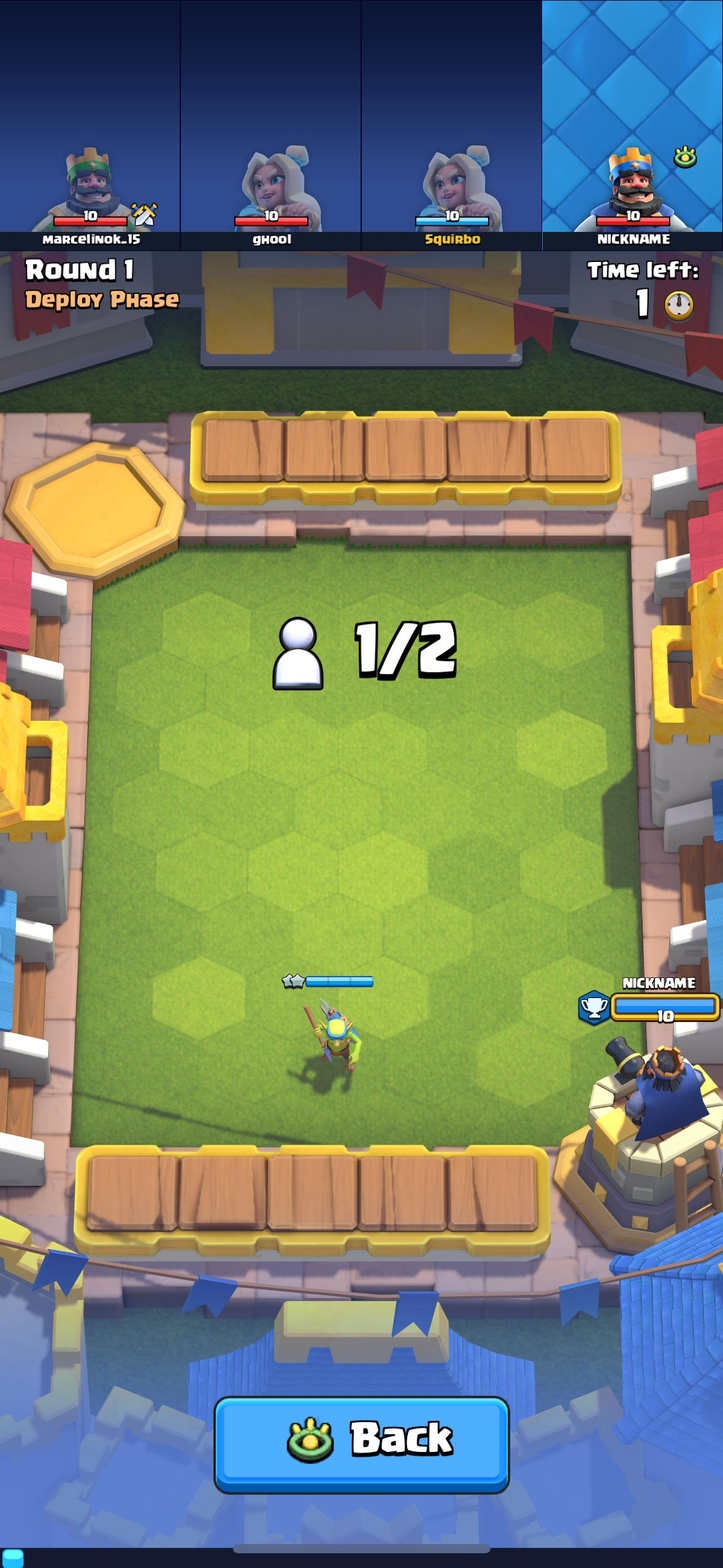spear: (298, 994, 366, 1075)
